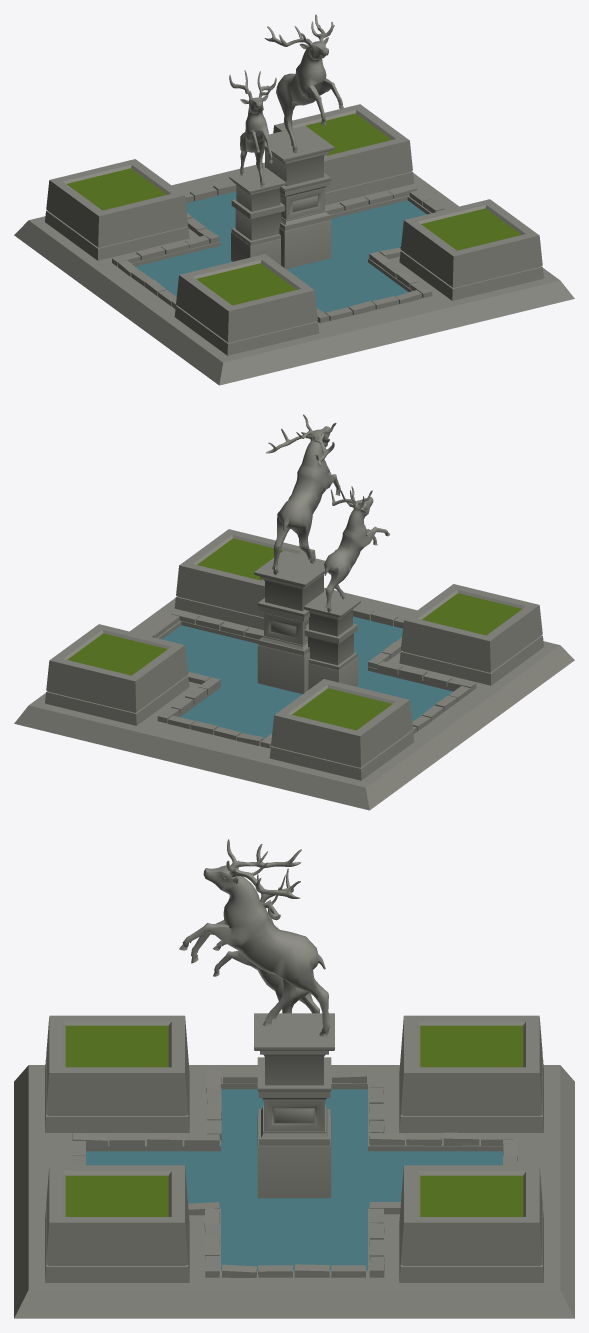
Rendered from TownCenter_SecondAge_Level2.glb.
3 renders of one model, top to bottom at view 1: azimuth 30°, elevation 25°; view 2: azimuth 150°, elevation 25°; view 3: azimuth 270°, elevation 25°, orthographic. The views are drawn at different scales.
Parts seen in each view (by area): view 1: TownCenter_SecondAge_Level2; view 2: TownCenter_SecondAge_Level2; view 3: TownCenter_SecondAge_Level2.
Part boxes in pixels (x1,y1,x2,y2): TownCenter_SecondAge_Level2: (14,14,574,385); TownCenter_SecondAge_Level2: (14,414,574,810); TownCenter_SecondAge_Level2: (14,839,574,1318).
Size of the model in its own units: 1.86 by 1.28 by 1.86.
